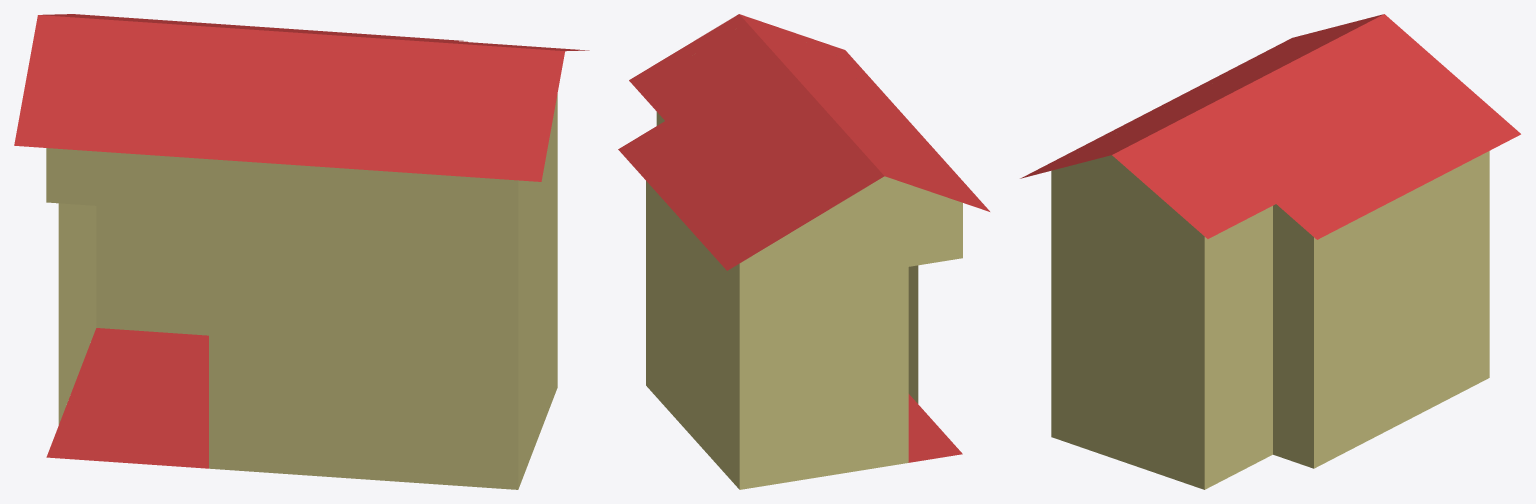
3 renders of one model, left to right at view 1: azimuth 30°, elevation 25°; view 2: azimuth 150°, elevation 25°; view 3: azimuth 270°, elevation 25°, orthographic. The views are drawn at different scales.
Parts seen in each view (by area): view 1: group_5, group_3, group_6, group_4; view 2: group_5, group_3, group_4, group_6; view 3: group_5, group_3, group_4.
Boxes of the visible parts, x1=… form: group_5: x1=46, y1=94, x2=557, y2=489; group_3: x1=14, y1=14, x2=564, y2=181; group_6: x1=46, y1=328, x2=208, y2=468; group_4: x1=15, y1=15, x2=589, y2=181; group_5: x1=646, y1=112, x2=962, y2=489; group_3: x1=618, y1=14, x2=989, y2=270; group_4: x1=618, y1=14, x2=989, y2=210; group_6: x1=908, y1=394, x2=962, y2=462; group_5: x1=1051, y1=151, x2=1489, y2=489; group_3: x1=1052, y1=14, x2=1520, y2=239; group_4: x1=1020, y1=14, x2=1383, y2=239.
Size of the model in its own units: 16.12 by 16.59 by 11.5.
